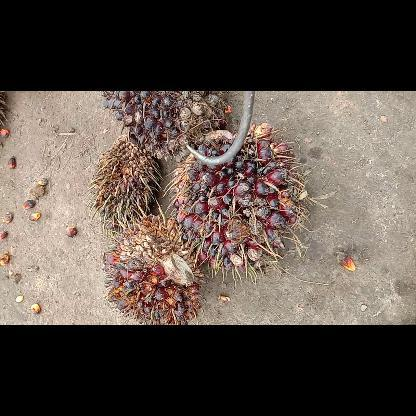Kurang masak: (175, 125, 305, 273), (95, 90, 229, 162)
TBS abnormal: (92, 132, 156, 224)
TBS masak: (102, 216, 200, 324)
